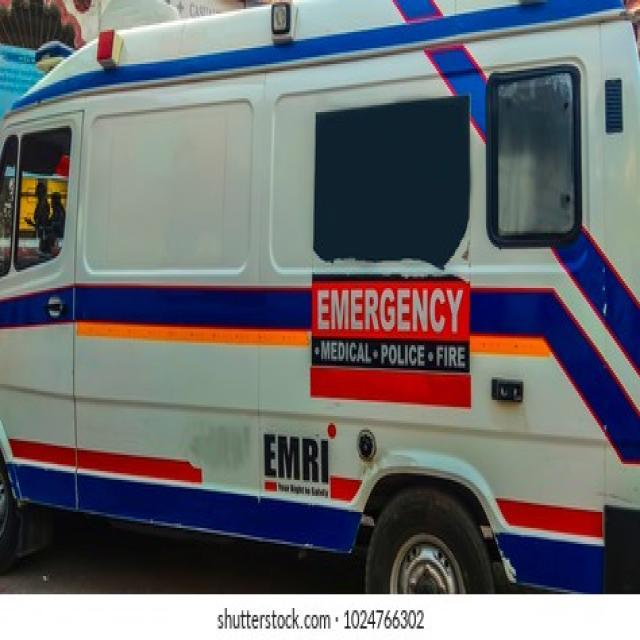ambulance: (1, 2, 640, 598)
